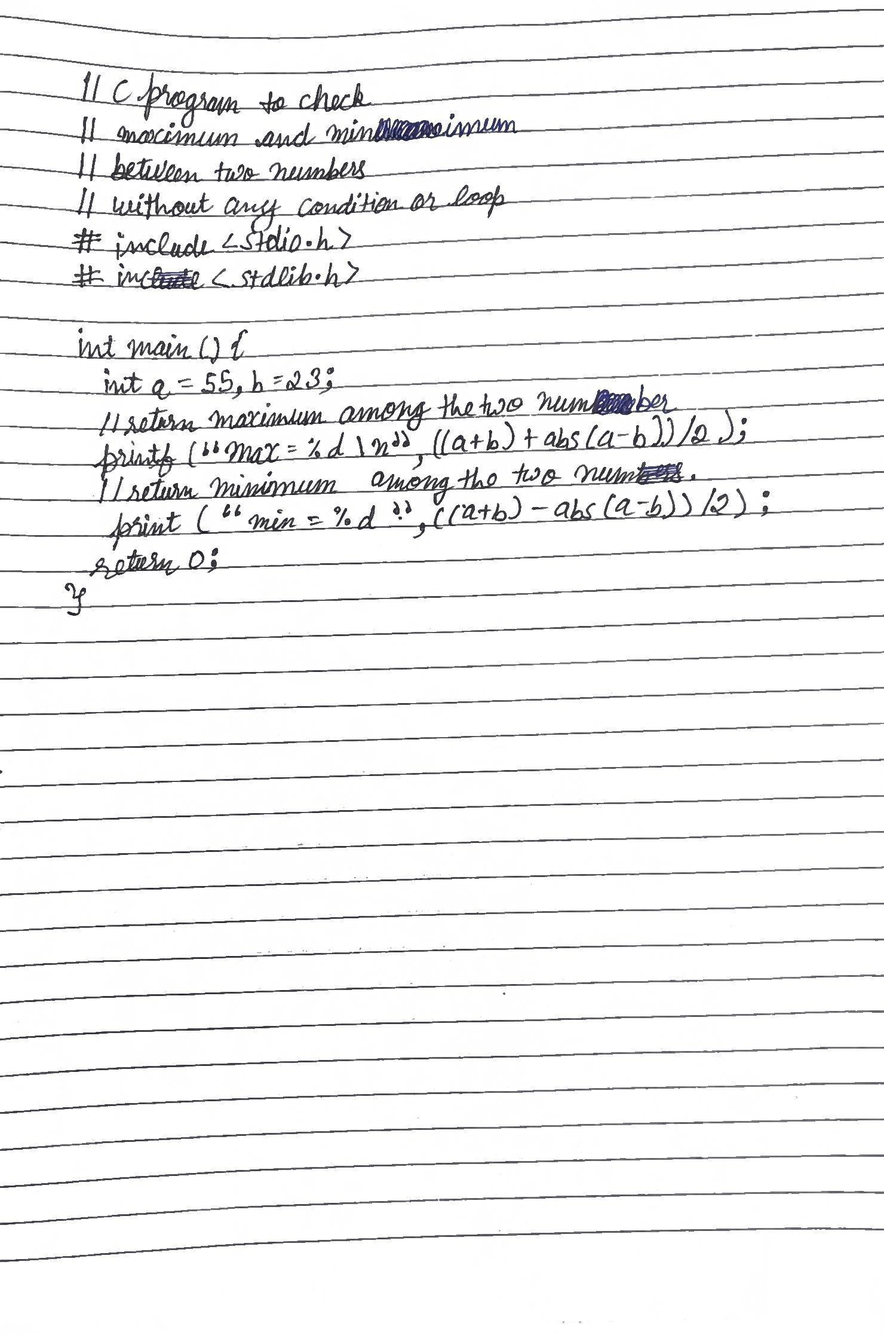cuttings: (373, 117, 444, 142), (591, 387, 635, 415), (151, 266, 202, 290), (638, 460, 684, 483)
